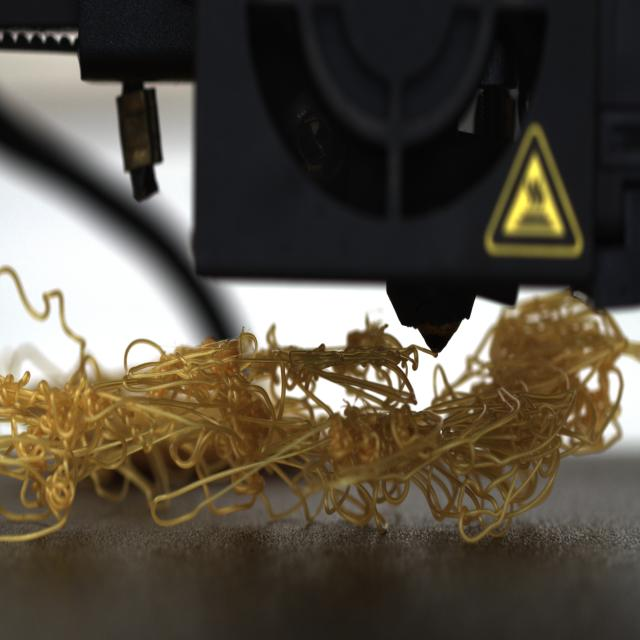Curling_Spagetti: (11, 319, 624, 553)
